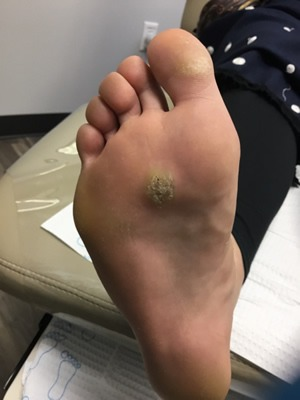Warts: (136, 161, 189, 224)
